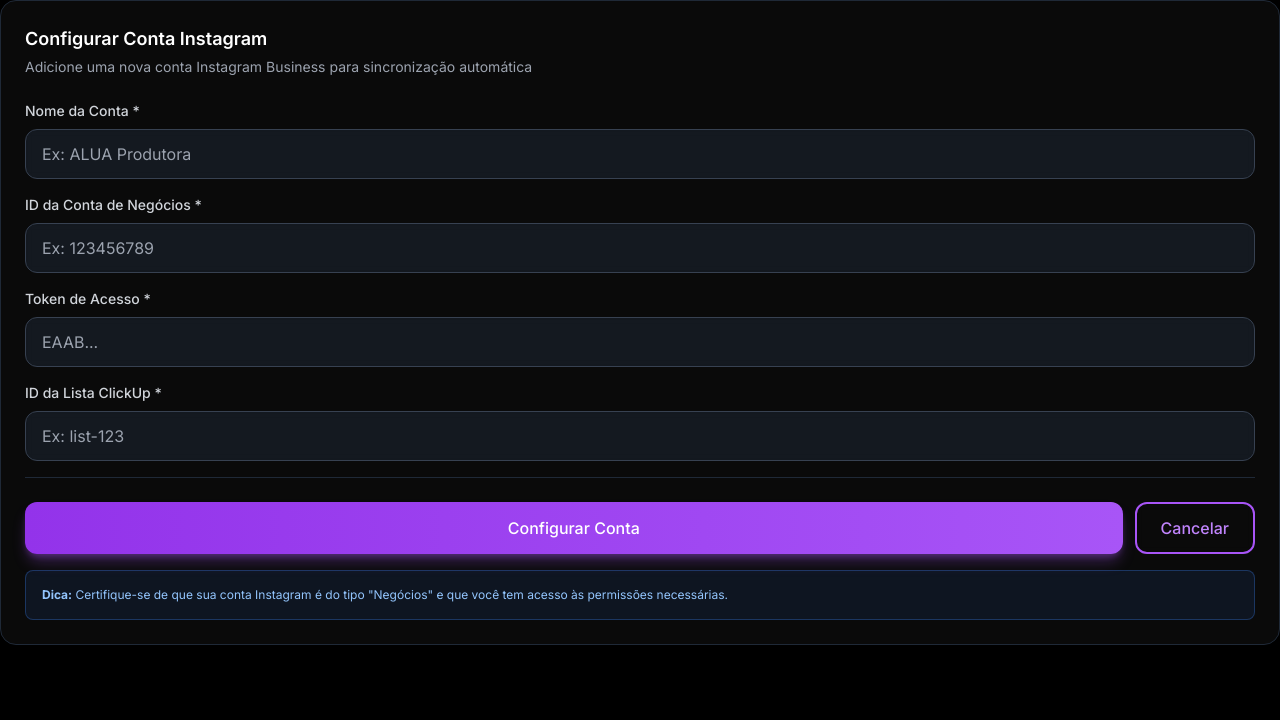
Scenario: InstagramAccountForm › Validation › should show error when accessToken is empty
This screenshot has width=1280, height=720.
In the field with placeholder "Ex: ALUA Produtora": (640, 154) [25,129,1255,179], type "Test Account"
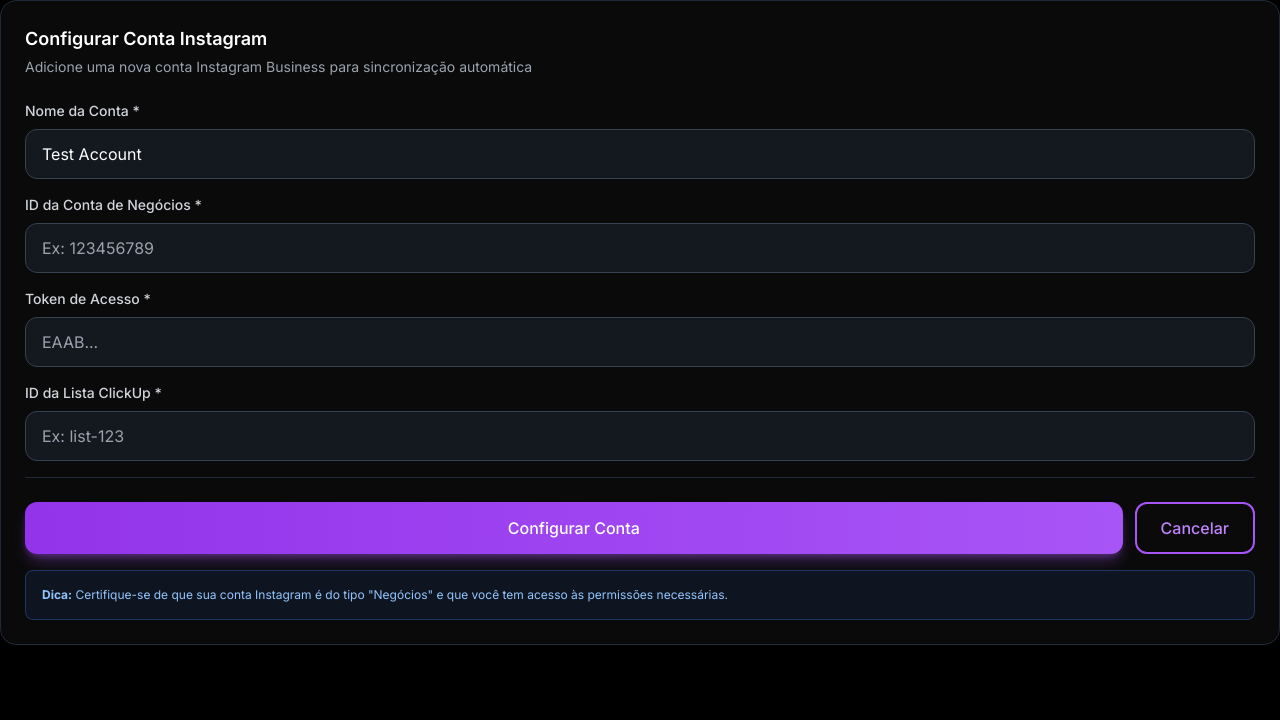
In the field with placeholder "Ex: 123456789": (640, 248) [25,223,1255,273], type "123456"
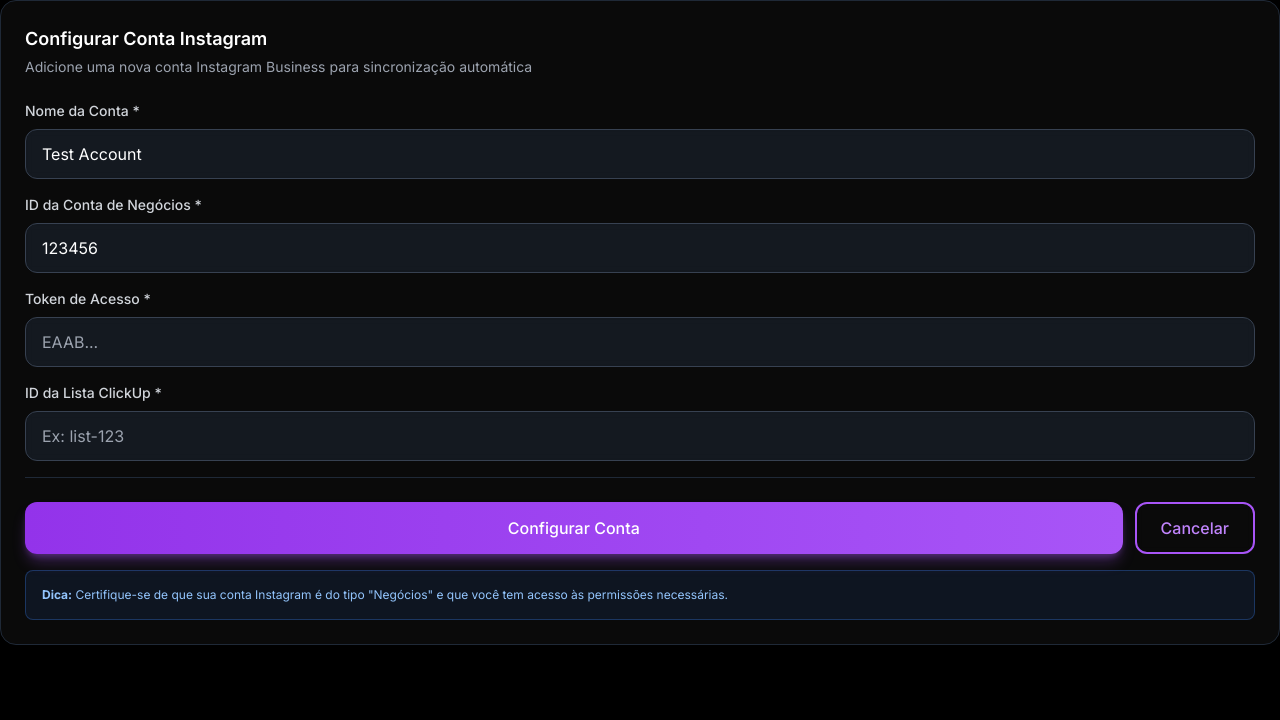
Click the button "Configurar Conta": (574, 528) [25,502,1123,554]
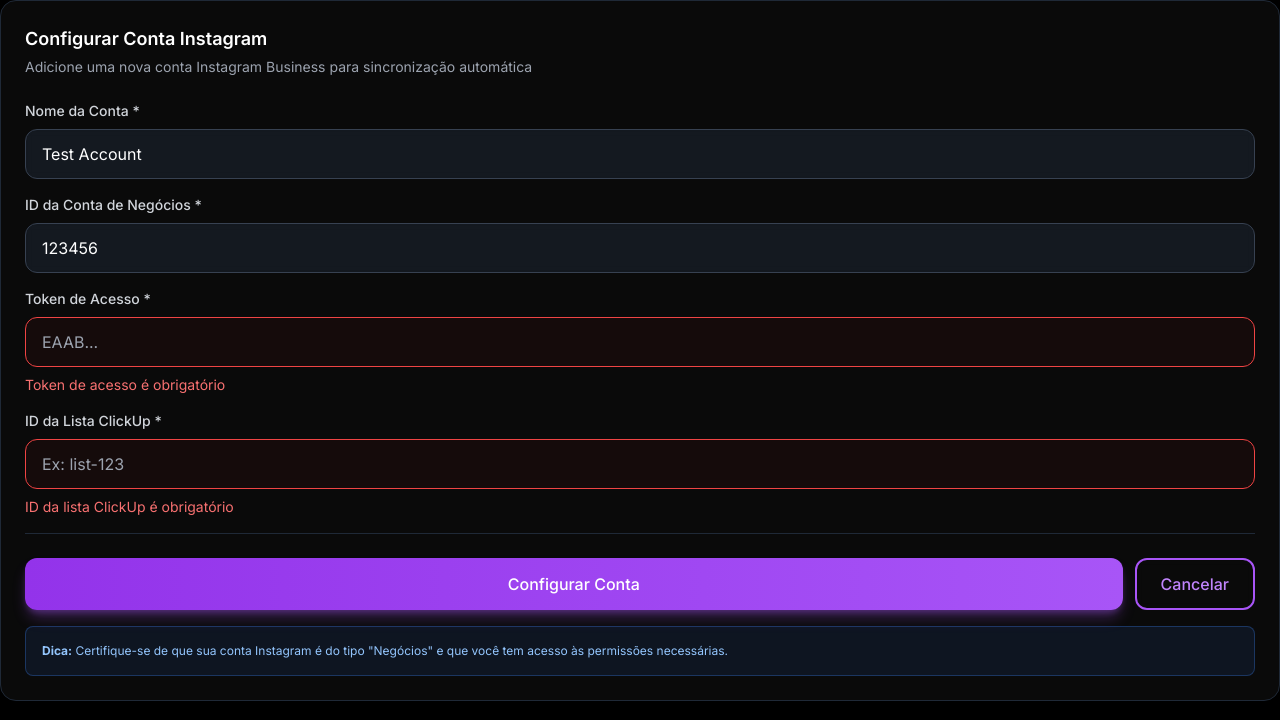
Expected: the text "Token de acesso é obrigatório" is shown, [25,376,225,393]
